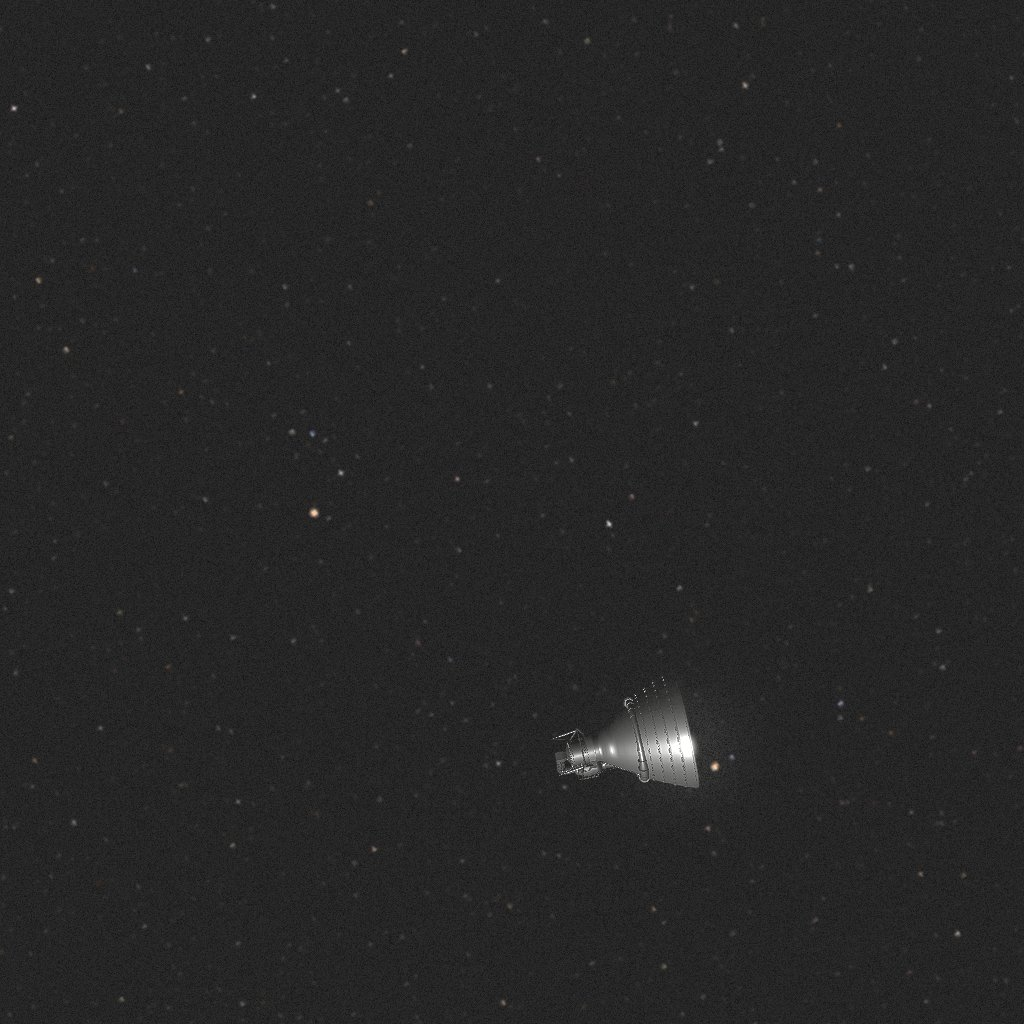debris: (552, 670, 699, 788)
